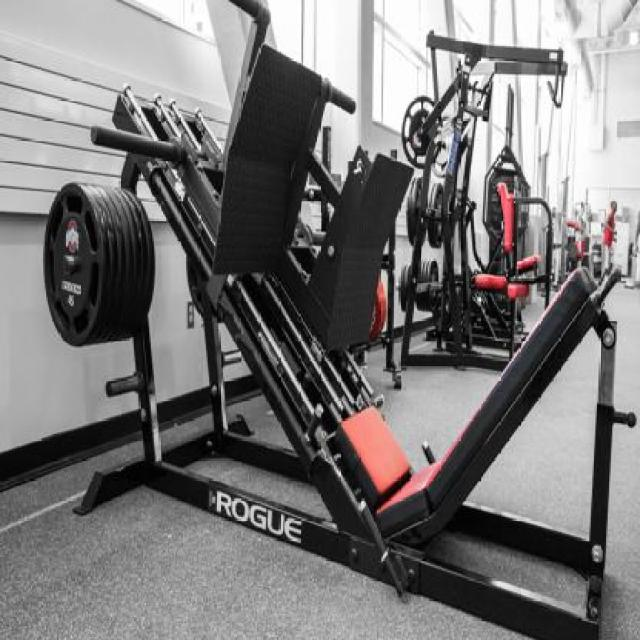leg press: (35, 0, 636, 640)
